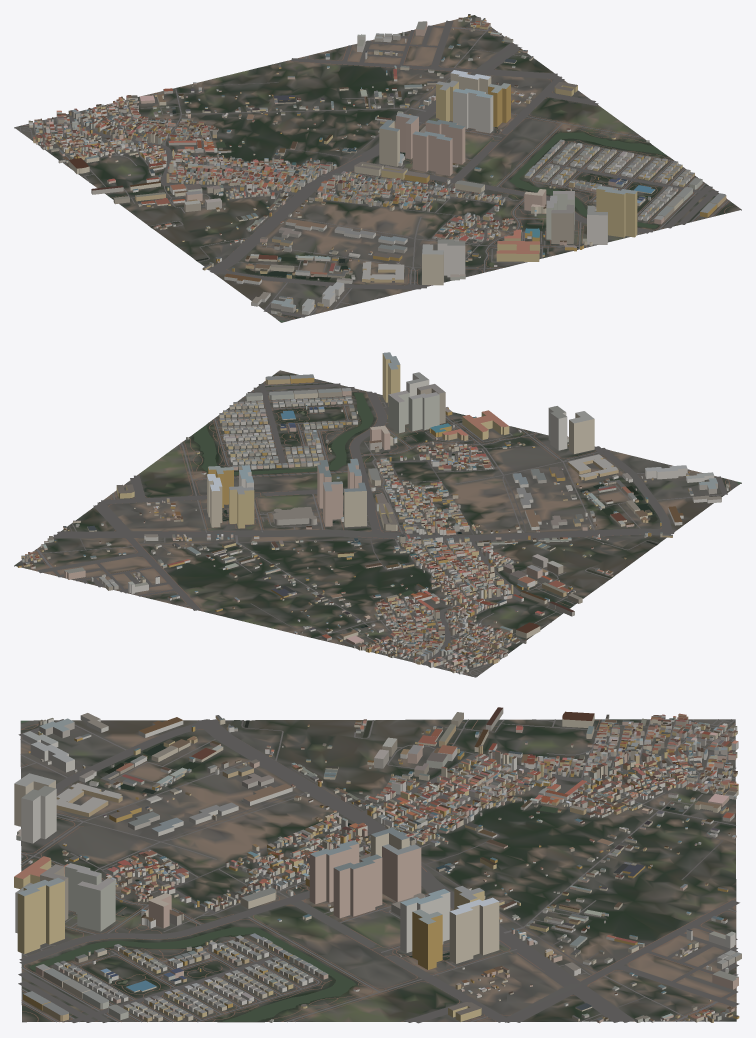
The picture shows the model from 3 angles, top to bottom: view 1: azimuth 30°, elevation 25°; view 2: azimuth 150°, elevation 25°; view 3: azimuth 270°, elevation 25°; orthographic projection. The views are drawn at different scales.
Visible parts, largest first — view 1: ground, buildings, roads, water; view 2: ground, buildings, roads, water; view 3: ground, buildings, roads, water.
Part boxes in pixels (<box>): ground: <box>14,15,741,322</box>; buildings: <box>28,14,726,316</box>; roads: <box>14,20,735,318</box>; water: <box>150,107,665,322</box>; ground: <box>14,370,741,677</box>; buildings: <box>17,352,729,674</box>; roads: <box>20,374,730,677</box>; water: <box>193,392,740,629</box>; ground: <box>20,719,736,1022</box>; buildings: <box>14,707,741,1023</box>; roads: <box>18,719,739,1023</box>; water: <box>21,720,683,1021</box>.
Size of the model in its own units: 1440 by 129 by 1428.
